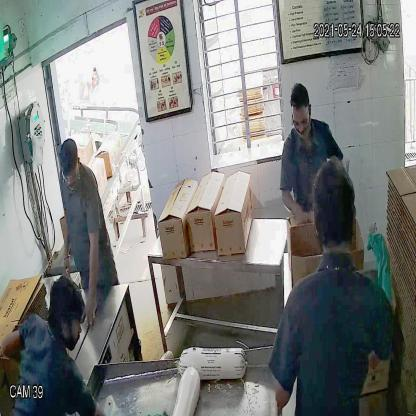goggles: (288, 113, 312, 136), (61, 166, 80, 186)
